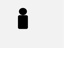human: (16, 5, 30, 32)
